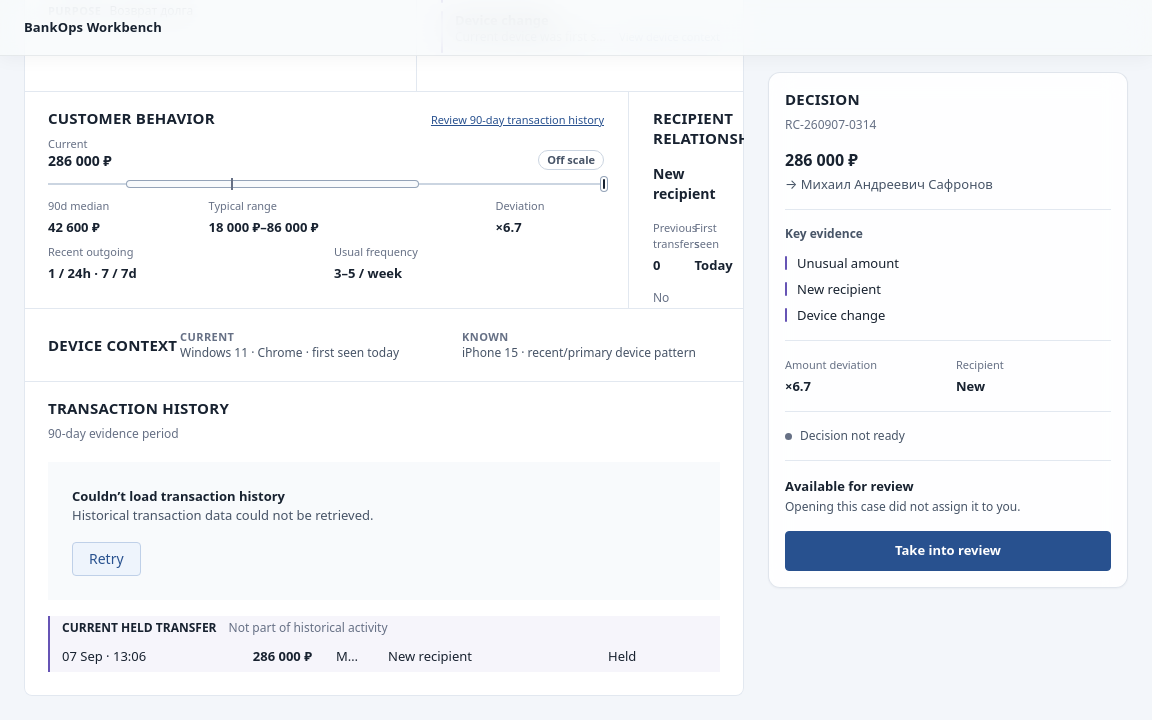
Transaction History section › locally retries a transport failure without removing first-fold evidence
The image size is (1152, 720).
(page scrolled)
Check: the heading "Couldn’t load transaction history" is shown, box [72, 487, 285, 505]
Check: the heading "Customer Behavior" is shown, box [48, 108, 215, 128]
Click the button "Retry" at (106, 558), box [72, 542, 141, 576]
(page scrolled)
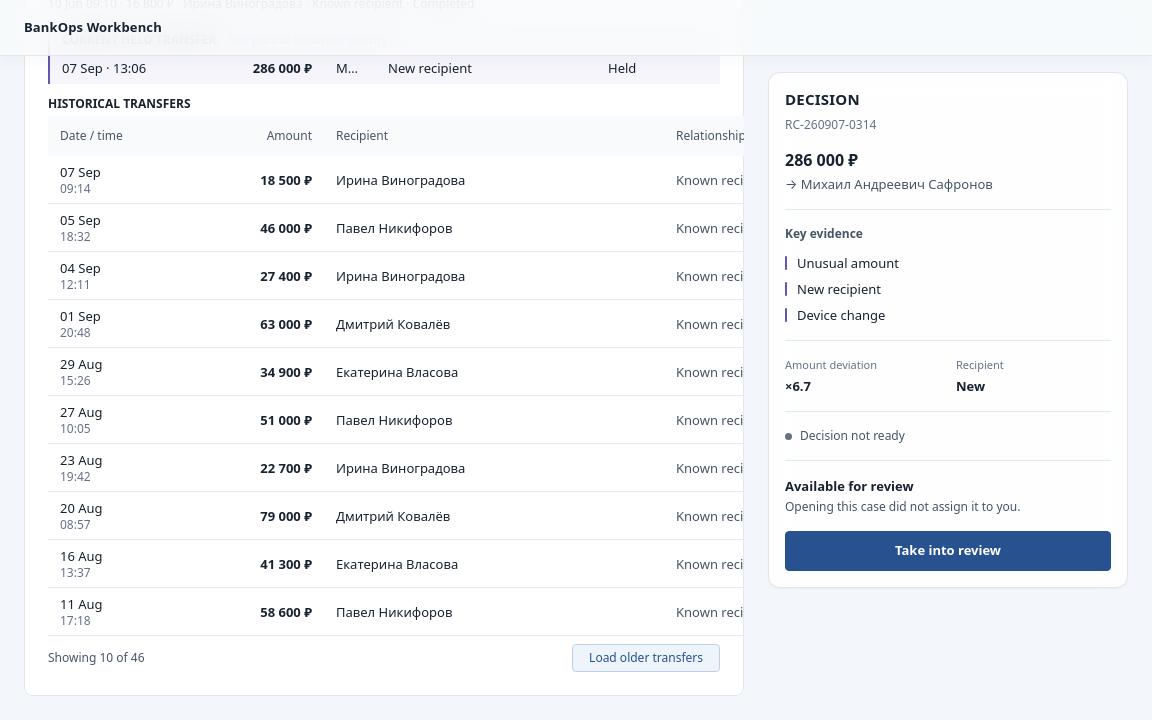
Check: the text "Showing 10 of 46" is shown, box [48, 649, 145, 667]
